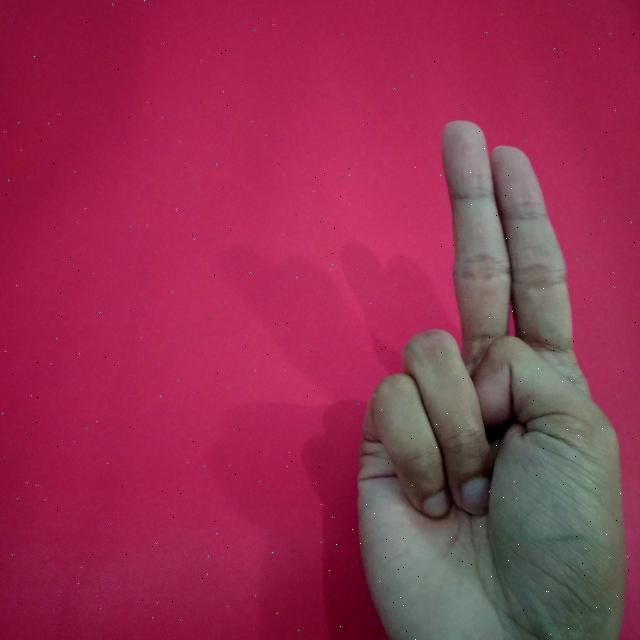U: (343, 115, 640, 640)
